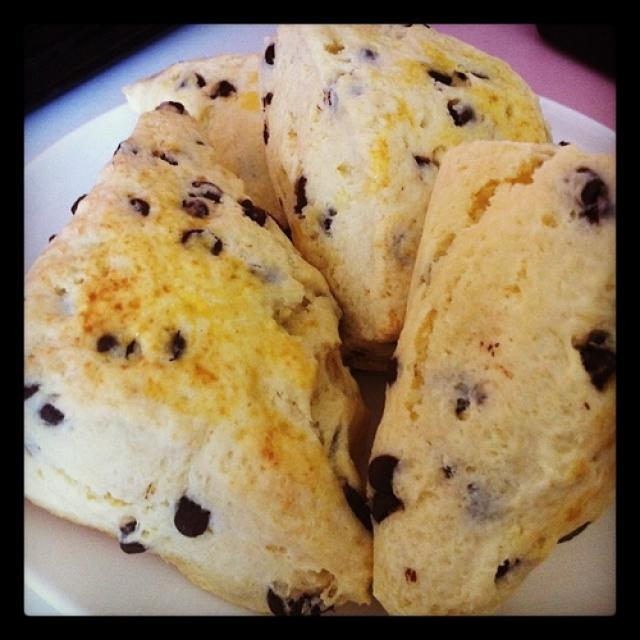面包点心: (27, 28, 599, 613)
